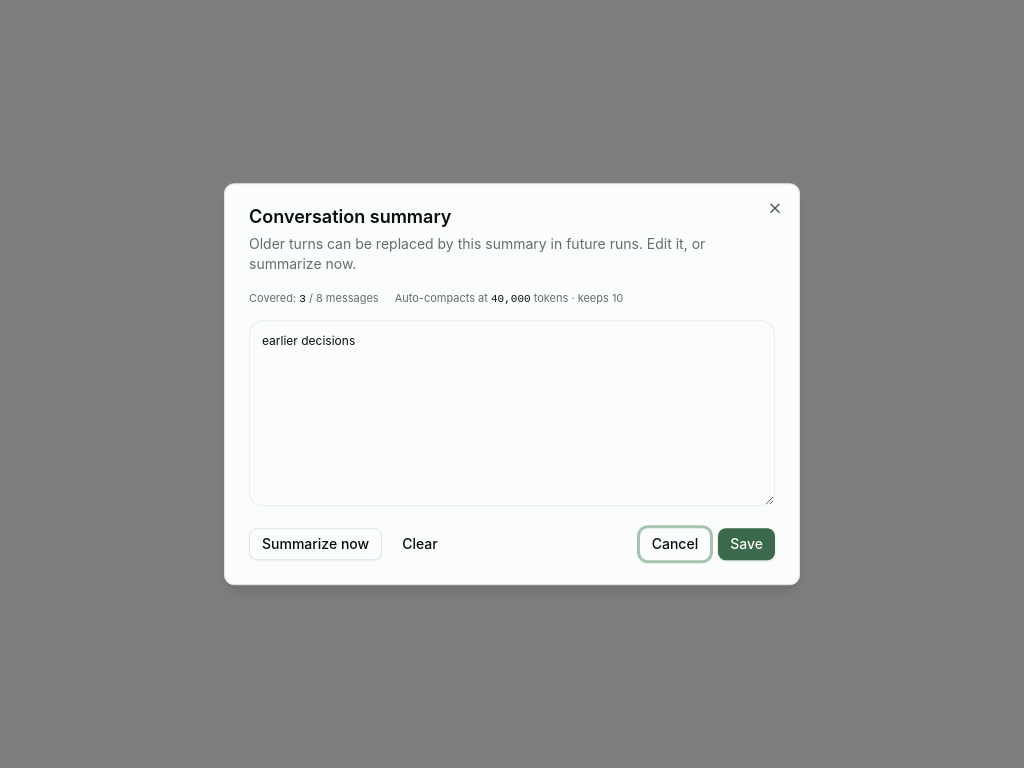
Test: SummaryDialog › shows the stored summary and replaces it after summarizing now
Expected: the text box holds "earlier decisions", [249,320,775,506]
Click the button "Summarize now".
click(316, 544)  # box [249,528,382,560]
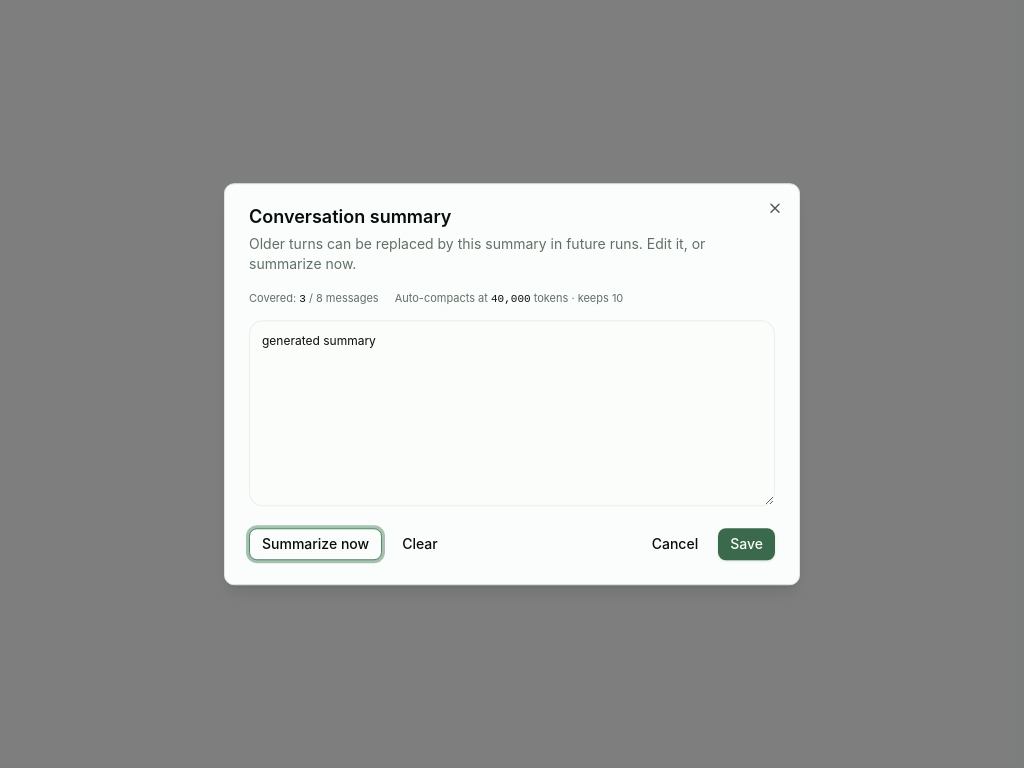
Expected: the text "Covered: 3 / 8 messages" is shown, [249,290,379,308]
Result: the text box showing "generated summary" is shown at [249,320,775,506]
